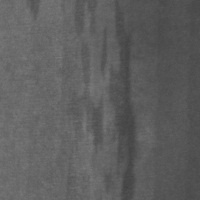inclusion: (73, 2, 136, 199)
